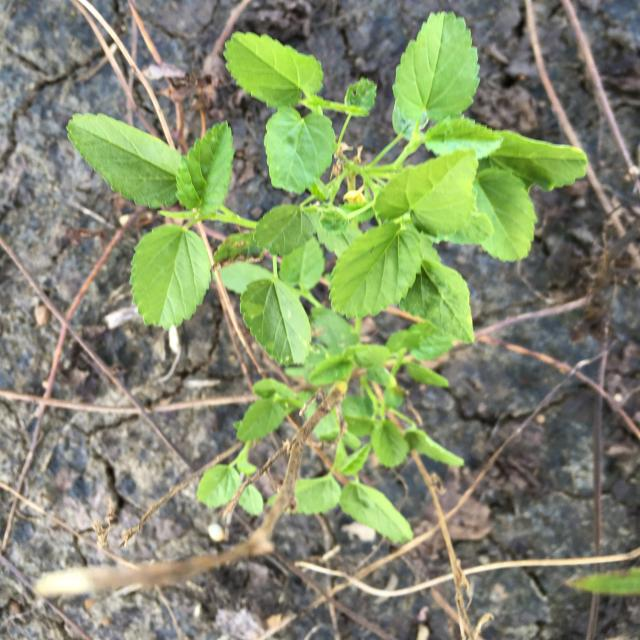PricklySida: (66, 10, 588, 547)
